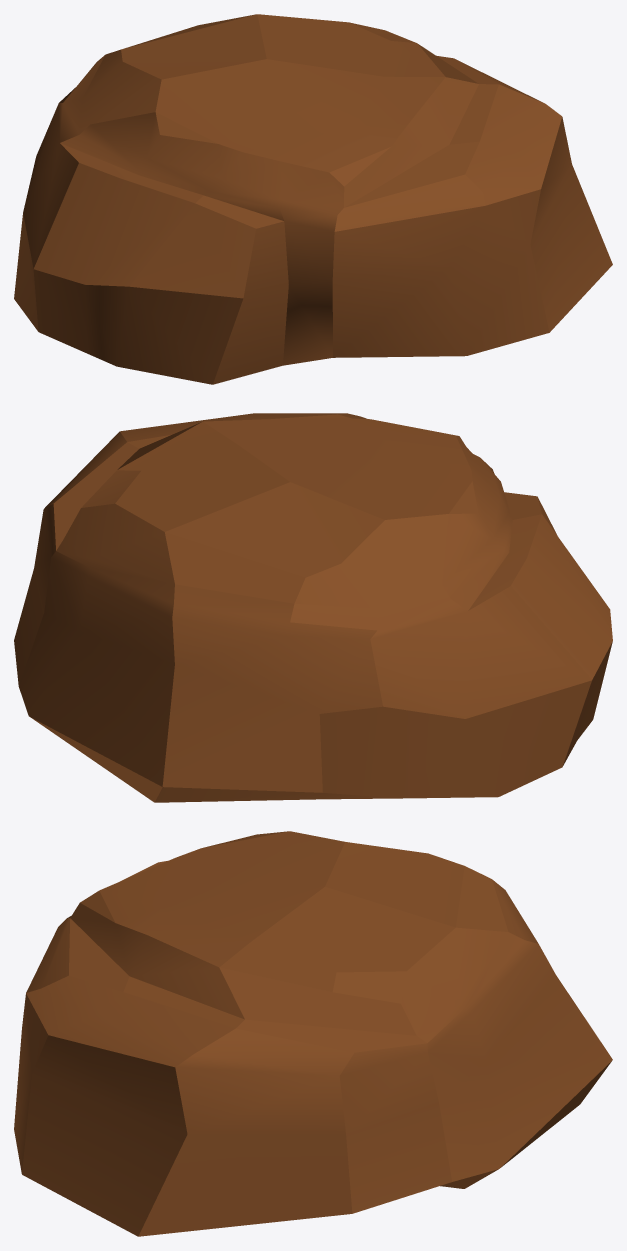
Rendered from rock_b4.glb.
3 views of the same model, one above another, from view 1: azimuth 30°, elevation 25°; view 2: azimuth 150°, elevation 25°; view 3: azimuth 270°, elevation 25° (orthographic). The views are drawn at different scales.
Parts seen in each view (by area): view 1: Rock_Large_1; view 2: Rock_Large_1; view 3: Rock_Large_1.
Boxes of the visible parts, left/top/right/bottom form: Rock_Large_1: left=14, top=14, right=612, bottom=384; Rock_Large_1: left=14, top=413, right=612, bottom=802; Rock_Large_1: left=14, top=831, right=612, bottom=1236.
Size of the model in its own units: 7.67 by 3.29 by 7.33.
Materials: 1 (1 with a texture image).
